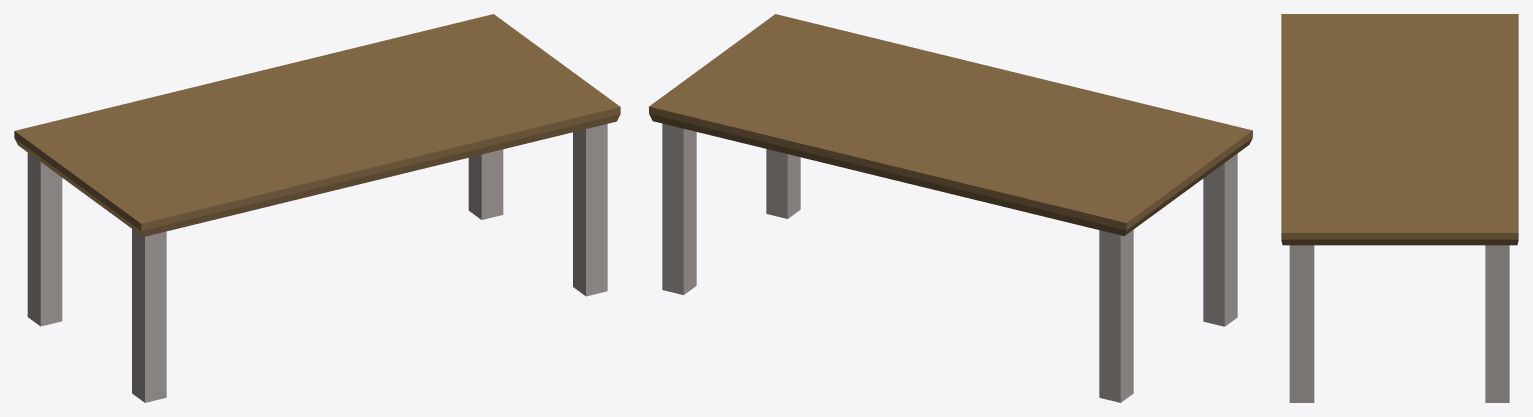
The model's file is Desk.fbx.
The picture shows the model from 3 angles, left to right: view 1: azimuth 30°, elevation 25°; view 2: azimuth 150°, elevation 25°; view 3: azimuth 270°, elevation 25°; orthographic projection. The views are drawn at different scales.
Parts seen in each view (by area): view 1: Desk; view 2: Desk; view 3: Desk.
Part boxes in pixels (box(x1,y1,x2,y2)): Desk: box(14, 14, 620, 402); Desk: box(649, 14, 1252, 402); Desk: box(1281, 14, 1518, 402).
Bounding box in the file's own units: 931 × 345 × 427.
